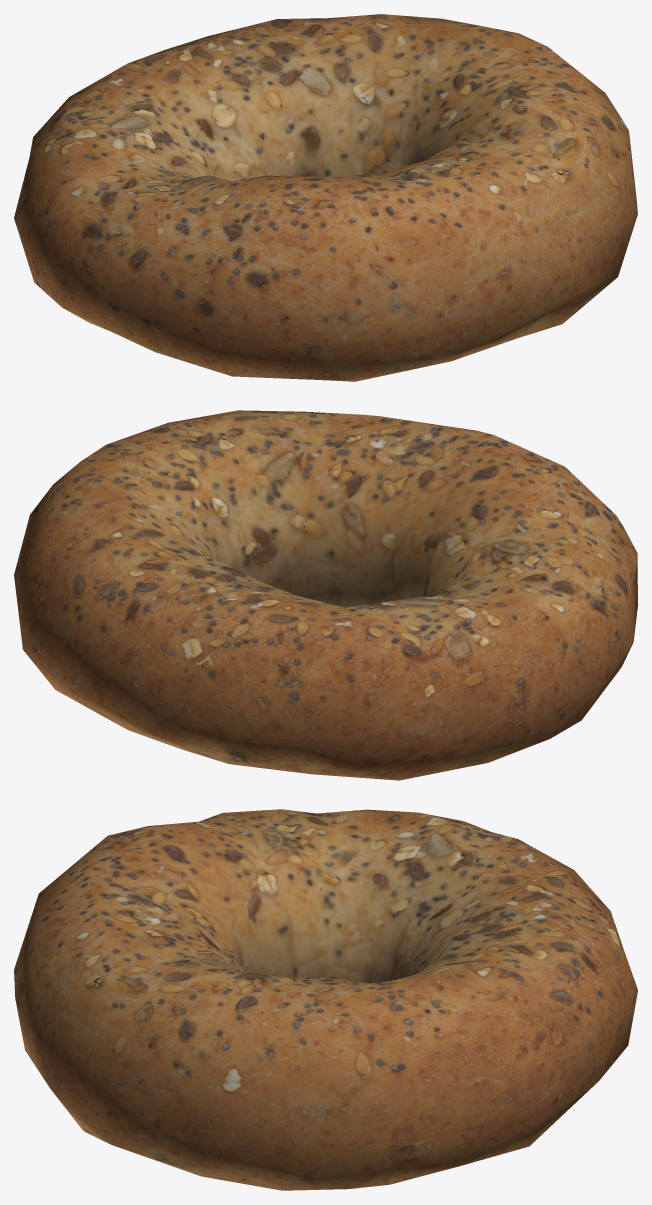
Rendered from 3DBread005_LQ-1K-JPG.obj.
3 views of the same model, one above another, from view 1: azimuth 30°, elevation 25°; view 2: azimuth 150°, elevation 25°; view 3: azimuth 270°, elevation 25° (orthographic). The views are drawn at different scales.
Parts seen in each view (by area): view 1: 3DBread005_LQ-1K-JPG; view 2: 3DBread005_LQ-1K-JPG; view 3: 3DBread005_LQ-1K-JPG.
Boxes of the visible parts, box(x1,y1,x2,y2) form: 3DBread005_LQ-1K-JPG: box(14, 14, 637, 381); 3DBread005_LQ-1K-JPG: box(14, 410, 637, 780); 3DBread005_LQ-1K-JPG: box(14, 809, 637, 1190).
Size of the model in its own units: 0.1297 by 0.0388 by 0.1222.
1 material, 1 textured.
